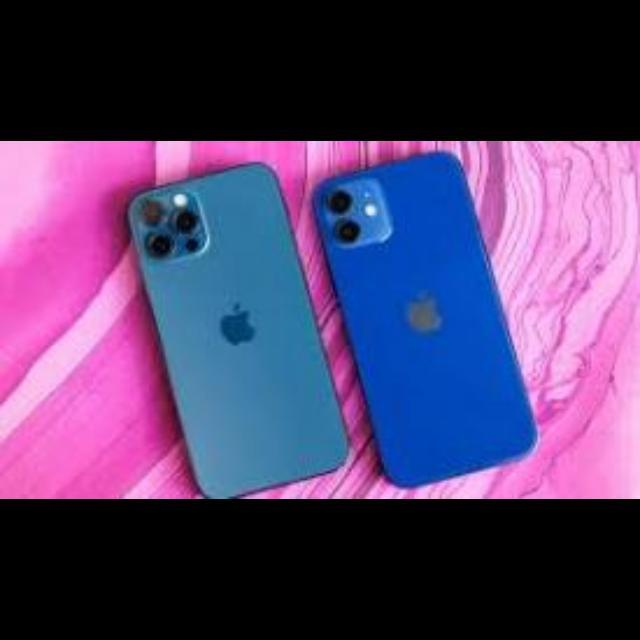Phone: (316, 154, 540, 492), (128, 162, 352, 498)
